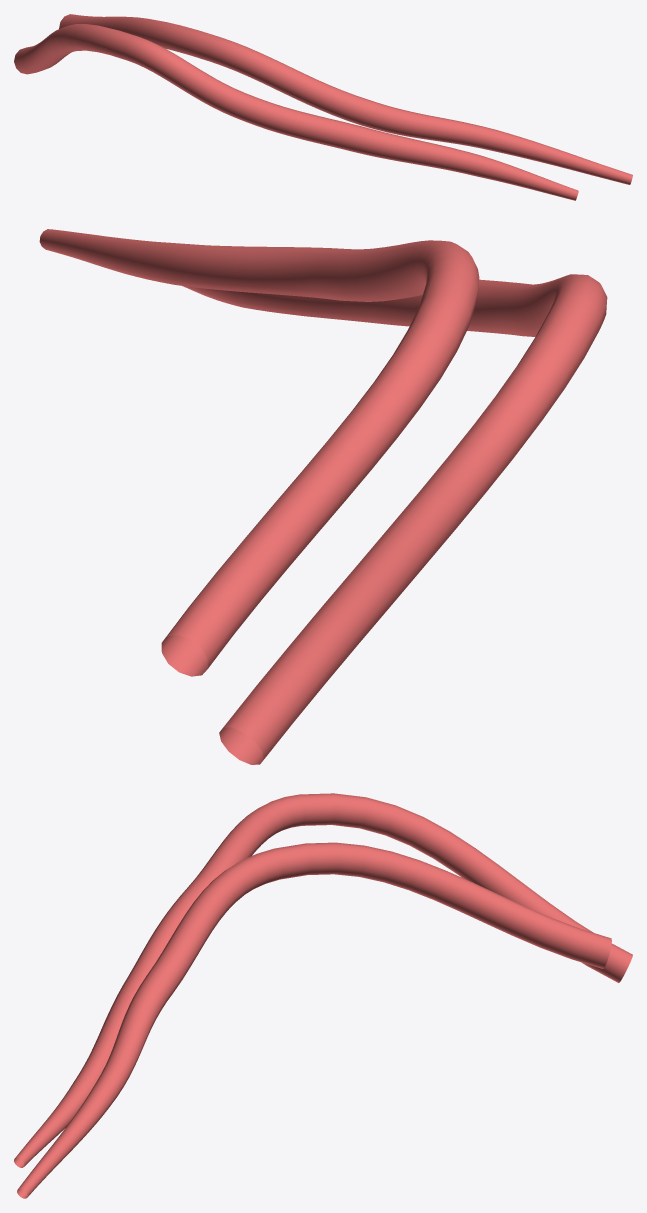
The model's file is Short_posterior_ciliary_arteries.l_BezierCurve.375.glb.
The picture shows the model from 3 angles, top to bottom: view 1: azimuth 30°, elevation 25°; view 2: azimuth 150°, elevation 25°; view 3: azimuth 270°, elevation 25°; orthographic projection. The views are drawn at different scales.
Parts seen in each view (by area): view 1: Short_posterior_ciliary_arteries.l_BezierCurve.375; view 2: Short_posterior_ciliary_arteries.l_BezierCurve.375; view 3: Short_posterior_ciliary_arteries.l_BezierCurve.375.
Boxes of the visible parts, x1,y1,x2,y2 form: Short_posterior_ciliary_arteries.l_BezierCurve.375: (14, 14, 632, 200); Short_posterior_ciliary_arteries.l_BezierCurve.375: (39, 229, 607, 764); Short_posterior_ciliary_arteries.l_BezierCurve.375: (14, 793, 632, 1198).
Bounding box in the file's own units: 0.00868 × 0.00319 × 0.00971.
